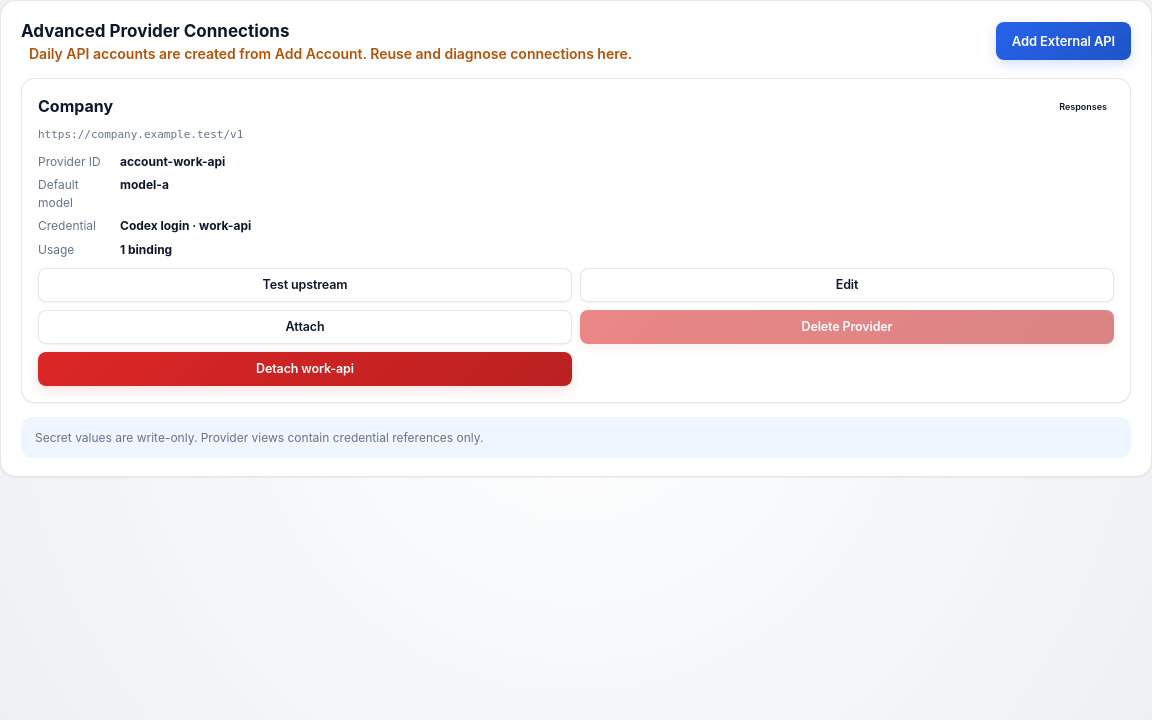
Scenario: ProviderCenter integrated flow › routes an exclusive native Responses connection to the API account editor
Click the button "Edit" at (847, 285), box [580,268,1114,302]
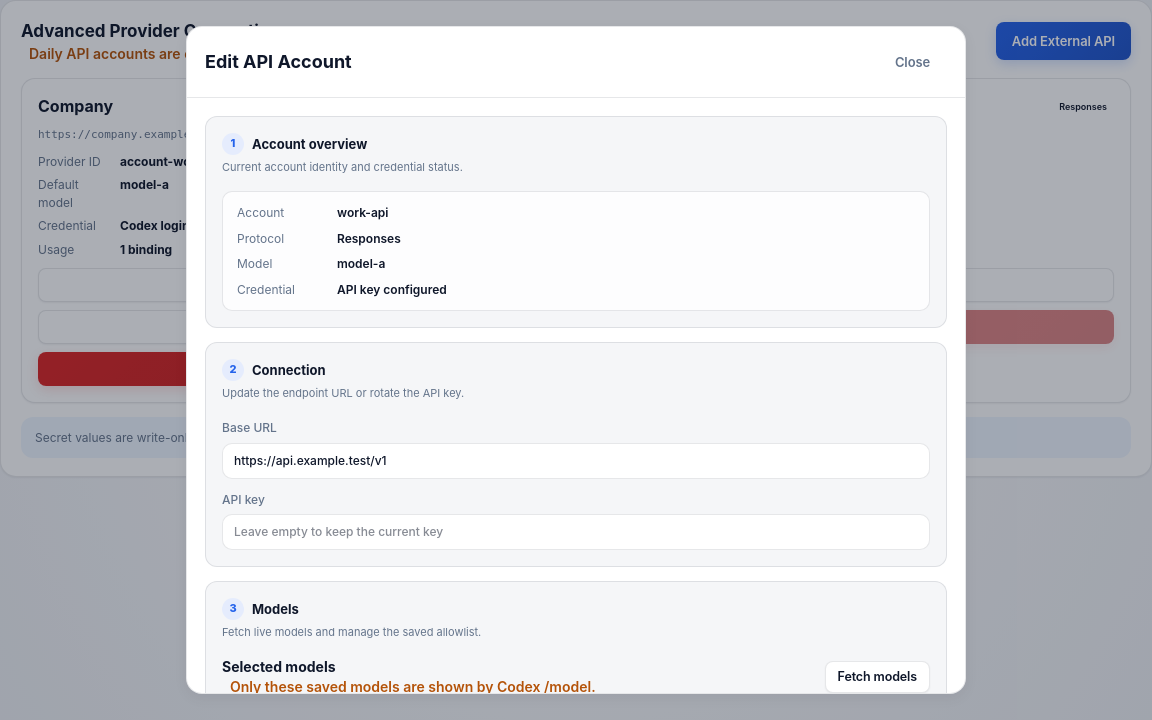
Now the heading "Edit API Account" is shown, box [205,49,352,75]
Now the field showing "https://api.example.test/v1" is shown, box [222,443,930,479]
Now the text "API key configured" is shown, box [337,282,447,297]
